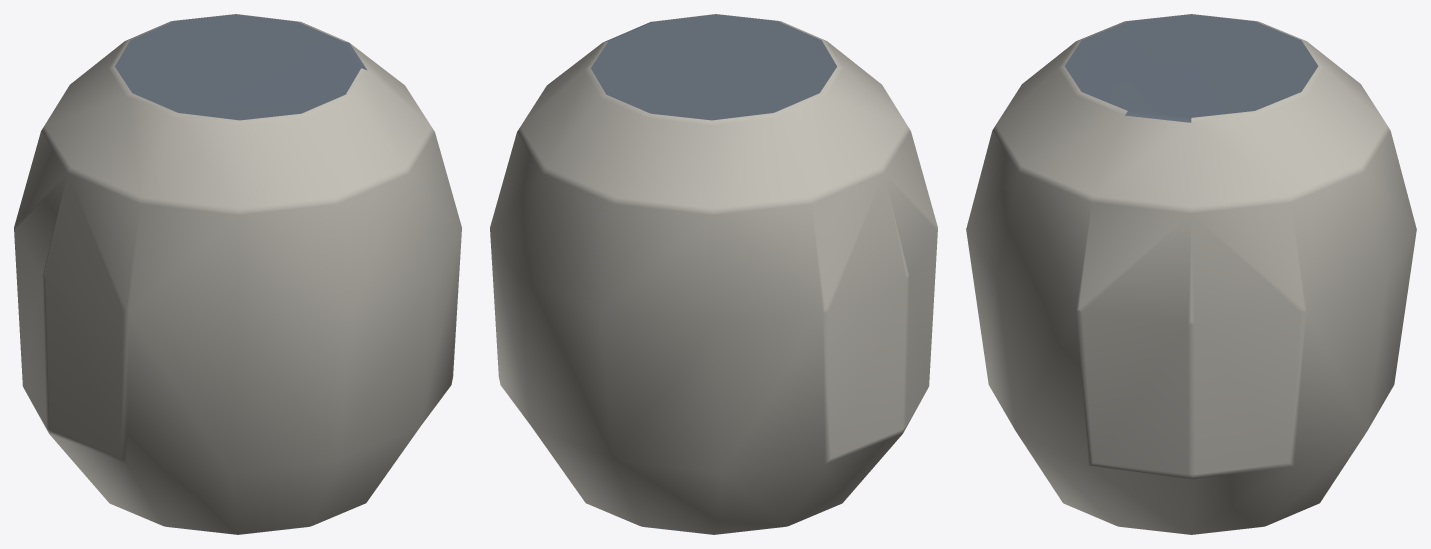
File: pauldron.glb
The picture shows the model from 3 angles, left to right: view 1: azimuth 30°, elevation 25°; view 2: azimuth 150°, elevation 25°; view 3: azimuth 270°, elevation 25°; orthographic projection.
Parts seen in each view (by area): view 1: pauldron; view 2: pauldron; view 3: pauldron.
Boxes of the visible parts, x1=… form: pauldron: x1=14, y1=14, x2=461, y2=534; pauldron: x1=490, y1=14, x2=937, y2=534; pauldron: x1=966, y1=14, x2=1416, y2=534.
Bounding box in the file's own units: 0.996 × 1 × 1.
